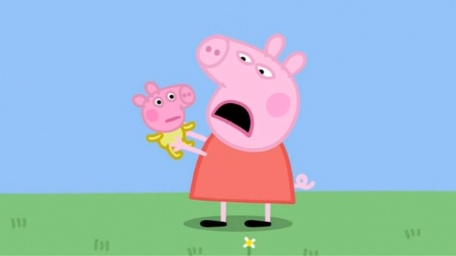Peppa: (171, 32, 319, 231)
